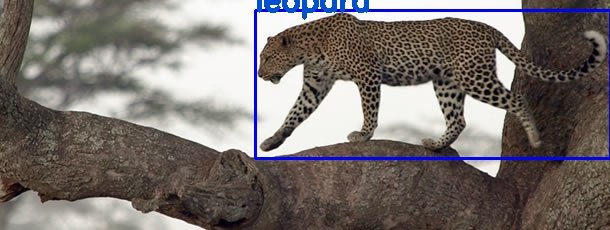leopard: (254, 9, 609, 157)
